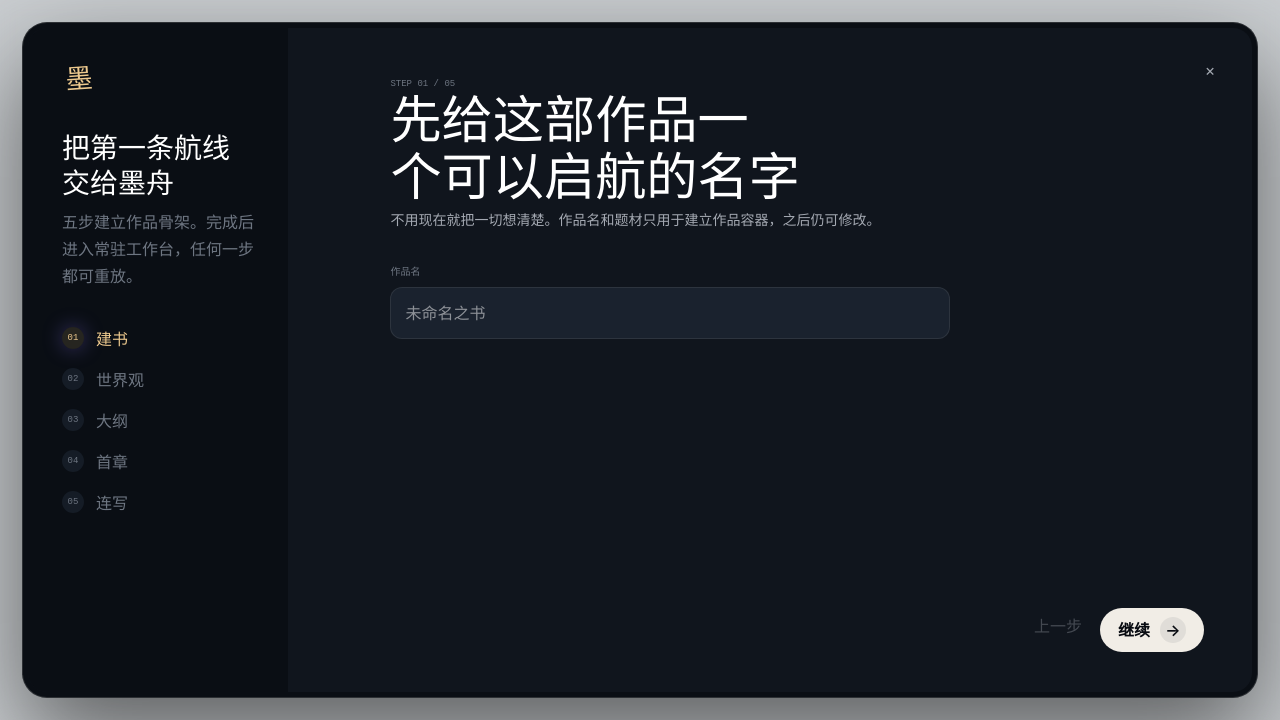
WizardOverlay（T42） › 步 1 建书失败：错误族内联呈现（role=alert），不跳步不弹裸异常
This screenshot has width=1280, height=720.
Type "坏书" into the field named "作品名" at (670, 313), box [390,287,950,339]
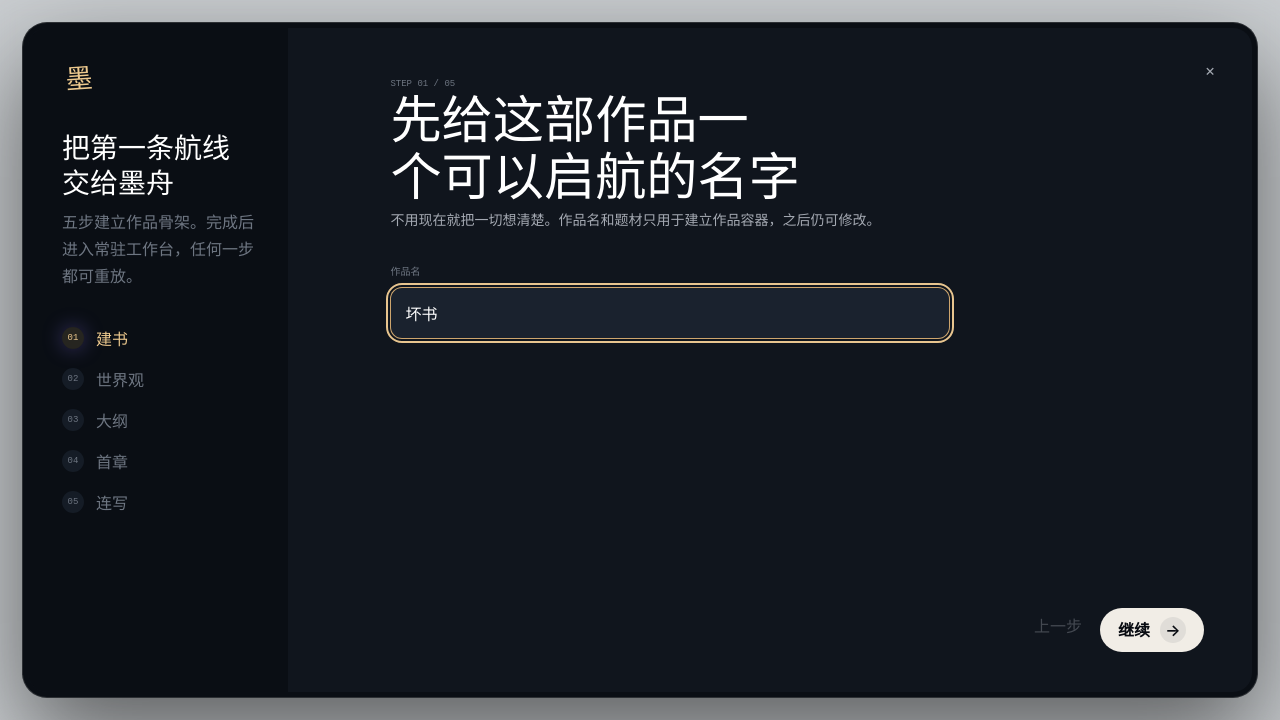
Click the button "继续 →" at (1152, 630), box [1100,608,1204,652]
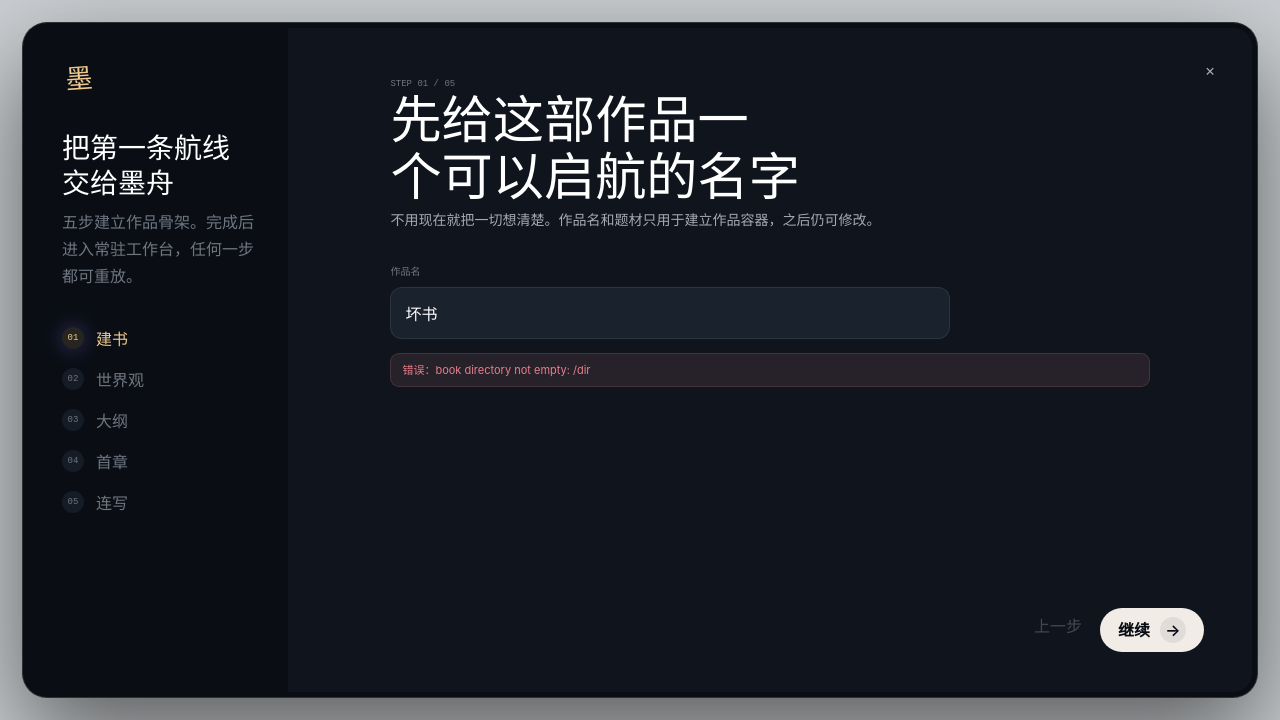
Expected: the text with test id "wizard-eyebrow" reads "STEP 01 / 05", [390,79,455,89]
Now the message with test id "wizard-error" shows "book directory not empty", box [435,363,590,377]
